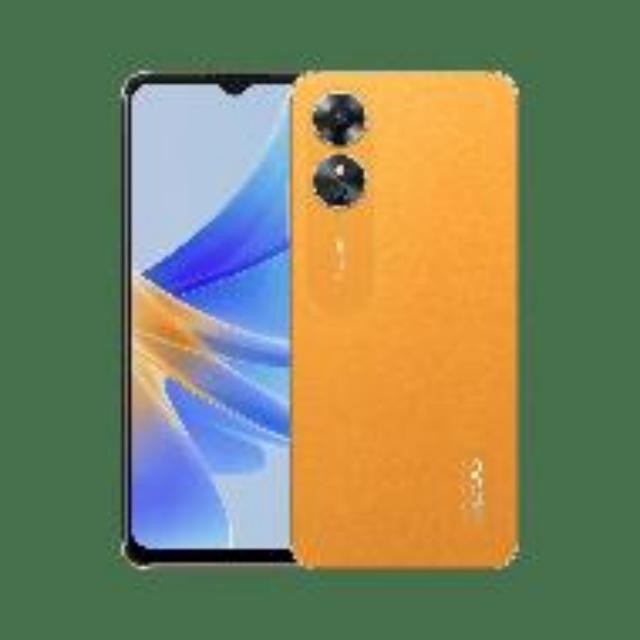PhoneUse: (292, 71, 516, 569), (121, 68, 289, 566)
